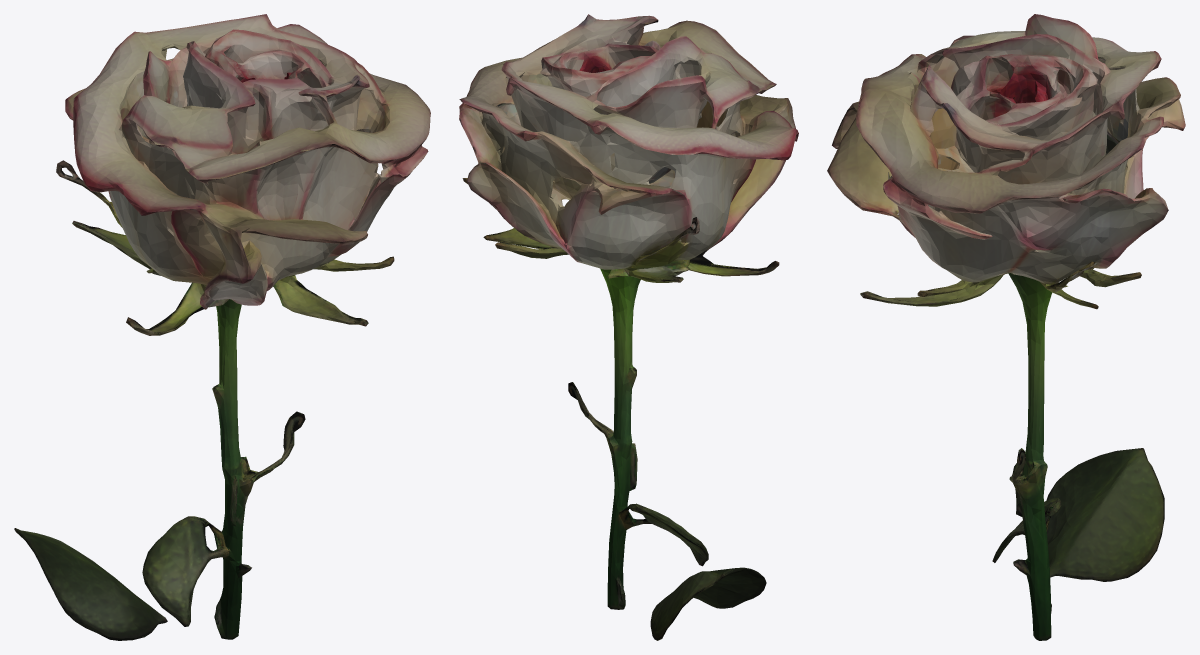
3 renders of one model, left to right at view 1: azimuth 30°, elevation 25°; view 2: azimuth 150°, elevation 25°; view 3: azimuth 270°, elevation 25°, orthographic. The views are drawn at different scales.
Visible parts, largest first — view 1: world; view 2: world; view 3: world.
Boxes of the visible parts, x1,y1,x2,y2 form: world: (14, 14, 430, 640); world: (459, 14, 798, 640); world: (827, 14, 1185, 640).
Bounding box in the file's own units: 0.5421 × 0.915 × 0.5053.
Materials: 1 (1 with a texture image).
